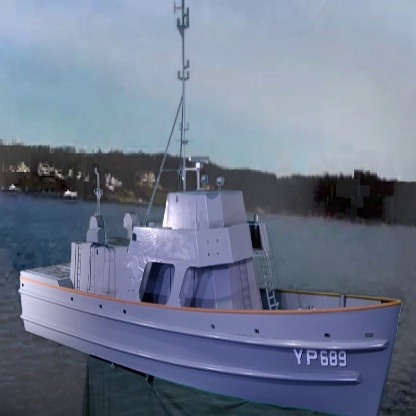YP689: (15, 0, 402, 416)
